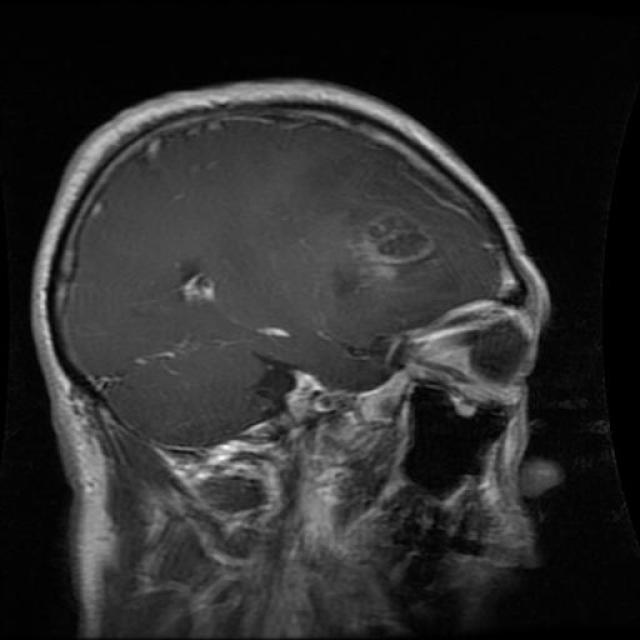glioma: (352, 211, 442, 290)
